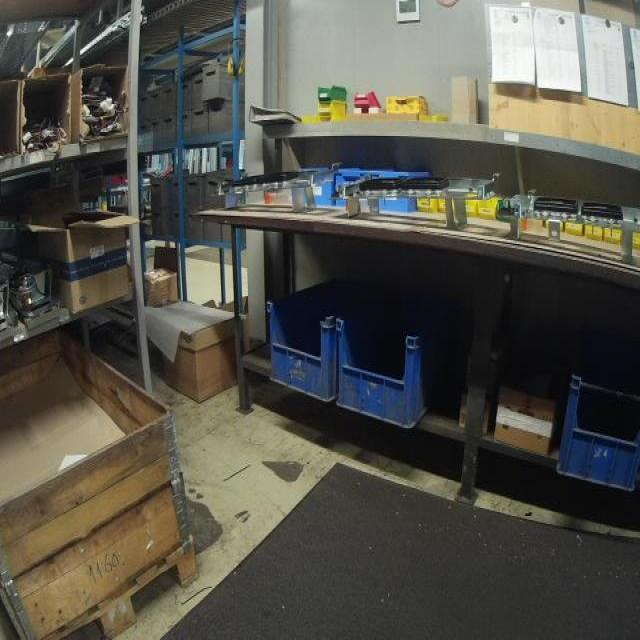pallet: (41, 530, 201, 640)
small_load_carrier: (261, 266, 396, 405), (332, 303, 466, 433), (555, 353, 638, 497)
